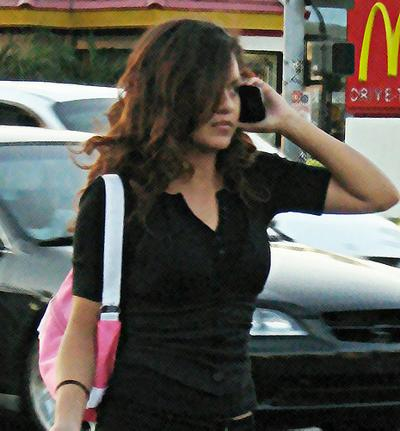person: (36, 17, 400, 430)
